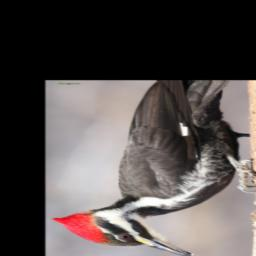Woodpecker: (51, 81, 256, 256)
